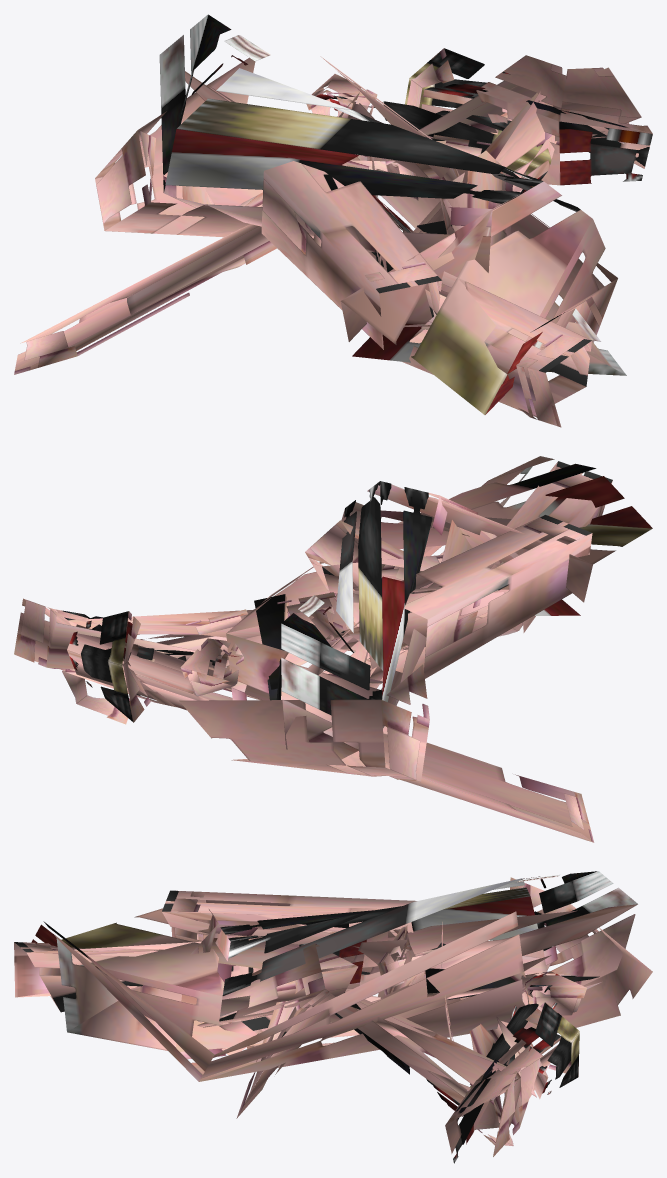
3 renders of one model, top to bottom at view 1: azimuth 30°, elevation 25°; view 2: azimuth 150°, elevation 25°; view 3: azimuth 270°, elevation 25°, orthographic. The views are drawn at different scales.
Visible parts, largest first — view 1: T1L6M006_13; view 2: T1L6M006_13; view 3: T1L6M006_13.
Part boxes in pixels (x1=…): T1L6M006_13: x1=14, y1=14, x2=652, y2=427; T1L6M006_13: x1=14, y1=456, x2=652, y2=842; T1L6M006_13: x1=14, y1=871, x2=652, y2=1163.
Bounding box in the file's own units: 1.78 × 0.6321 × 1.88.
